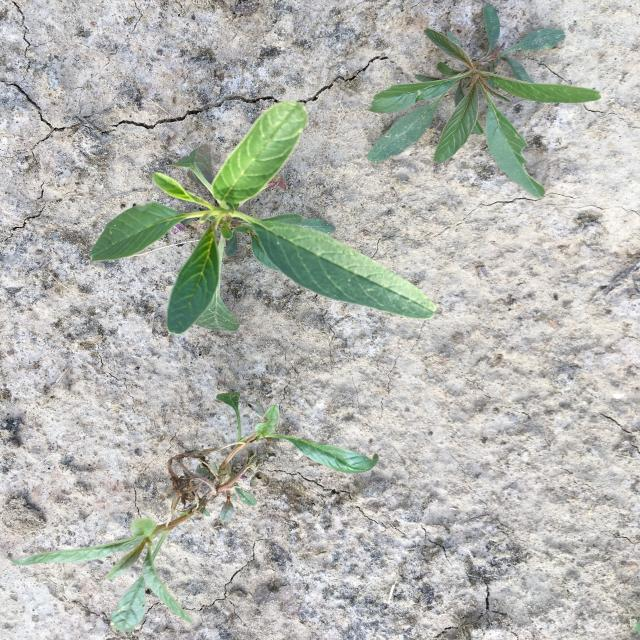Waterhemp: (8, 392, 380, 634), (91, 102, 436, 334), (367, 3, 603, 200)
